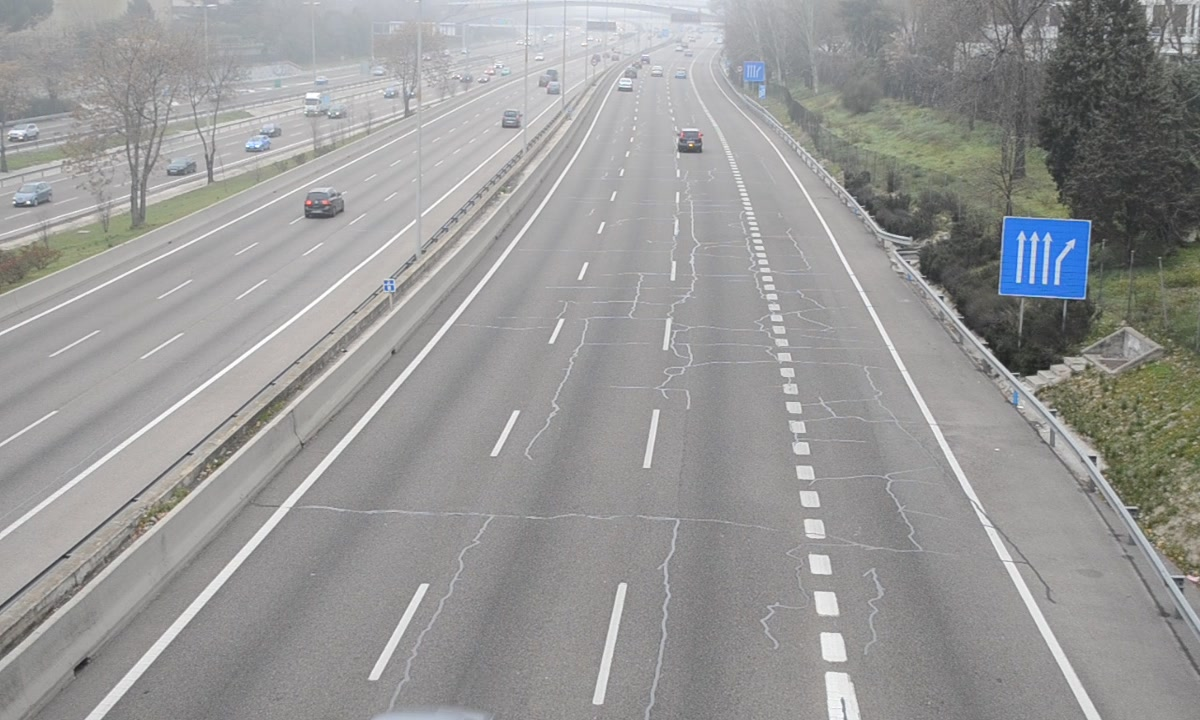car: (677, 127, 703, 154)
